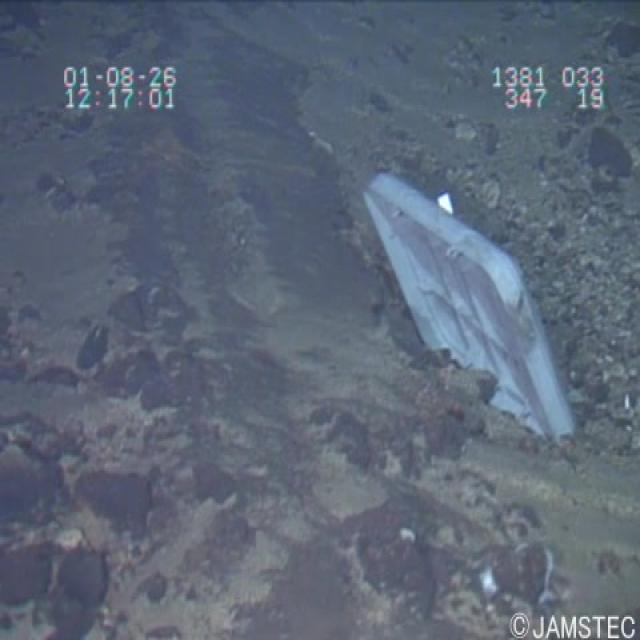plastic: (353, 150, 595, 470)
